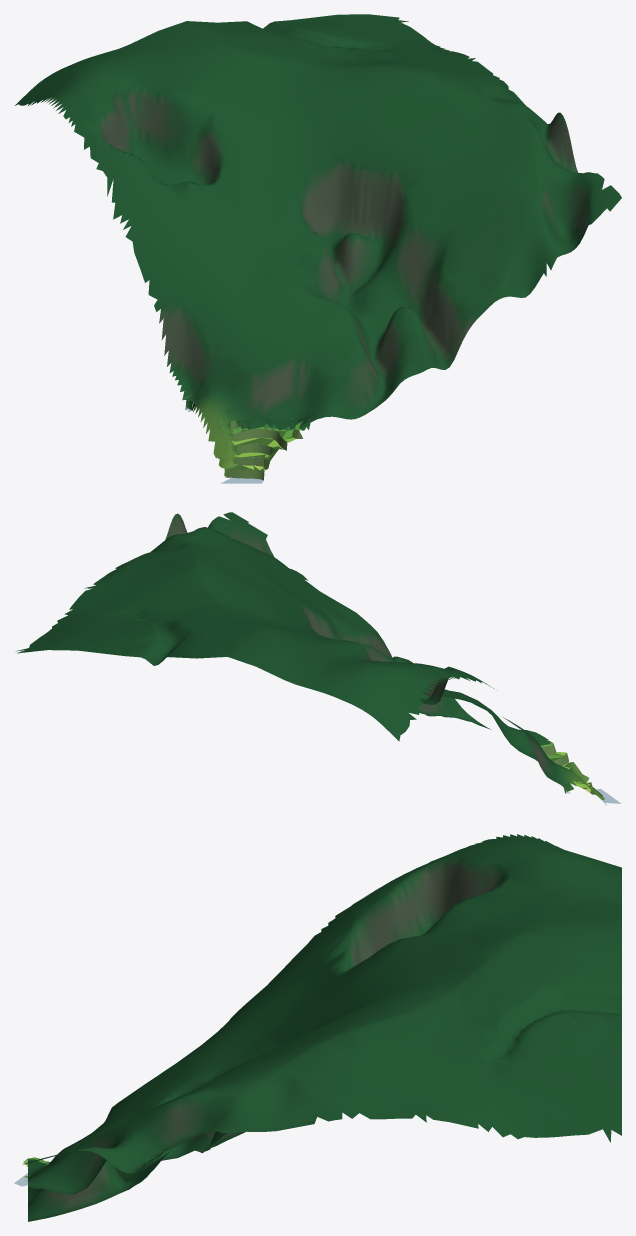
The model's file is payo_land_xm2_y3_lod1.glb.
The picture shows the model from 3 angles, top to bottom: view 1: azimuth 30°, elevation 25°; view 2: azimuth 150°, elevation 25°; view 3: azimuth 270°, elevation 25°; orthographic projection. The views are drawn at different scales.
Parts seen in each view (by area): view 1: payo_land_xm2_y3; view 2: payo_land_xm2_y3; view 3: payo_land_xm2_y3.
Boxes of the visible parts, bbox=[...] form: payo_land_xm2_y3: bbox=[15, 14, 621, 483]; payo_land_xm2_y3: bbox=[16, 512, 621, 805]; payo_land_xm2_y3: bbox=[14, 834, 621, 1221].
Size of the model in its own units: 268 by 167 by 261.
